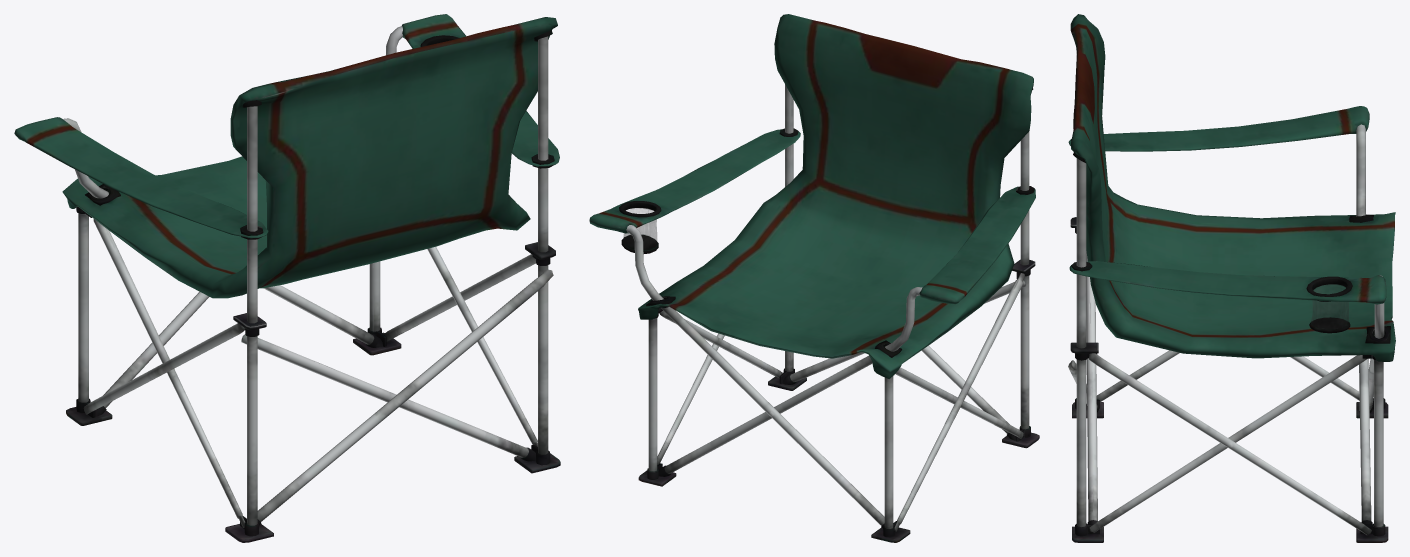
Rendered from stoel.glb.
3 renders of one model, left to right at view 1: azimuth 30°, elevation 25°; view 2: azimuth 150°, elevation 25°; view 3: azimuth 270°, elevation 25°, orthographic. The views are drawn at different scales.
Parts seen in each view (by area): view 1: pasted__pasted__polySurface5; view 2: pasted__pasted__polySurface5; view 3: pasted__pasted__polySurface5.
Part boxes in pixels (box(x1,y1,x2,y2)): pasted__pasted__polySurface5: box(14, 14, 560, 542); pasted__pasted__polySurface5: box(589, 14, 1039, 542); pasted__pasted__polySurface5: box(1068, 14, 1395, 542).
Size of the model in its own units: 0.8882 by 0.8557 by 0.6394.
Materials: 1 (1 with a texture image).
